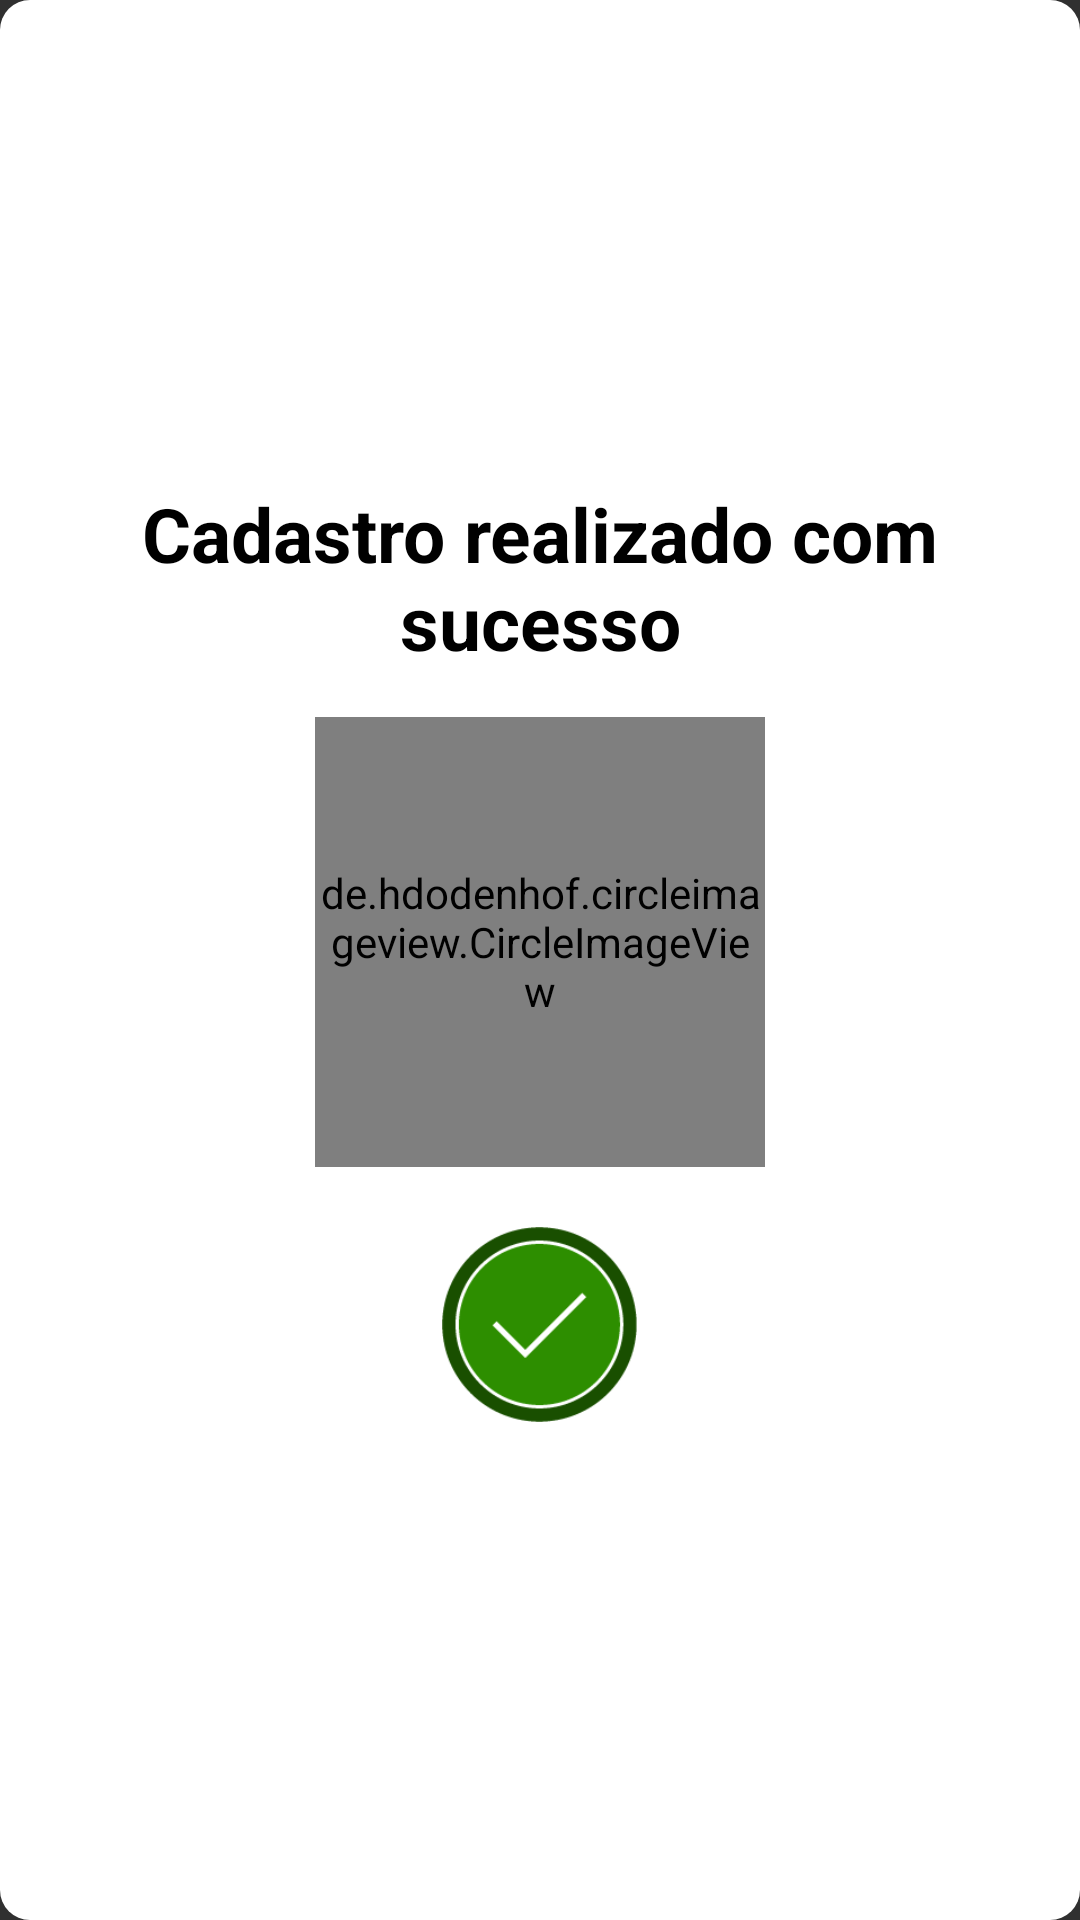

Where to tap for icons on this 1080×1920 app screen, as (x,y):
verde: (539,1324)
